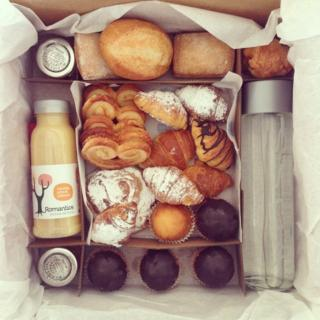Croissant: (192, 114, 235, 174), (143, 166, 203, 206), (90, 202, 138, 247), (174, 85, 230, 123), (179, 159, 234, 197), (136, 90, 188, 130)
